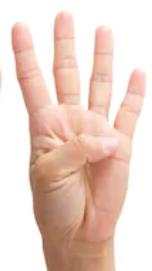right: (10, 8, 149, 241)
